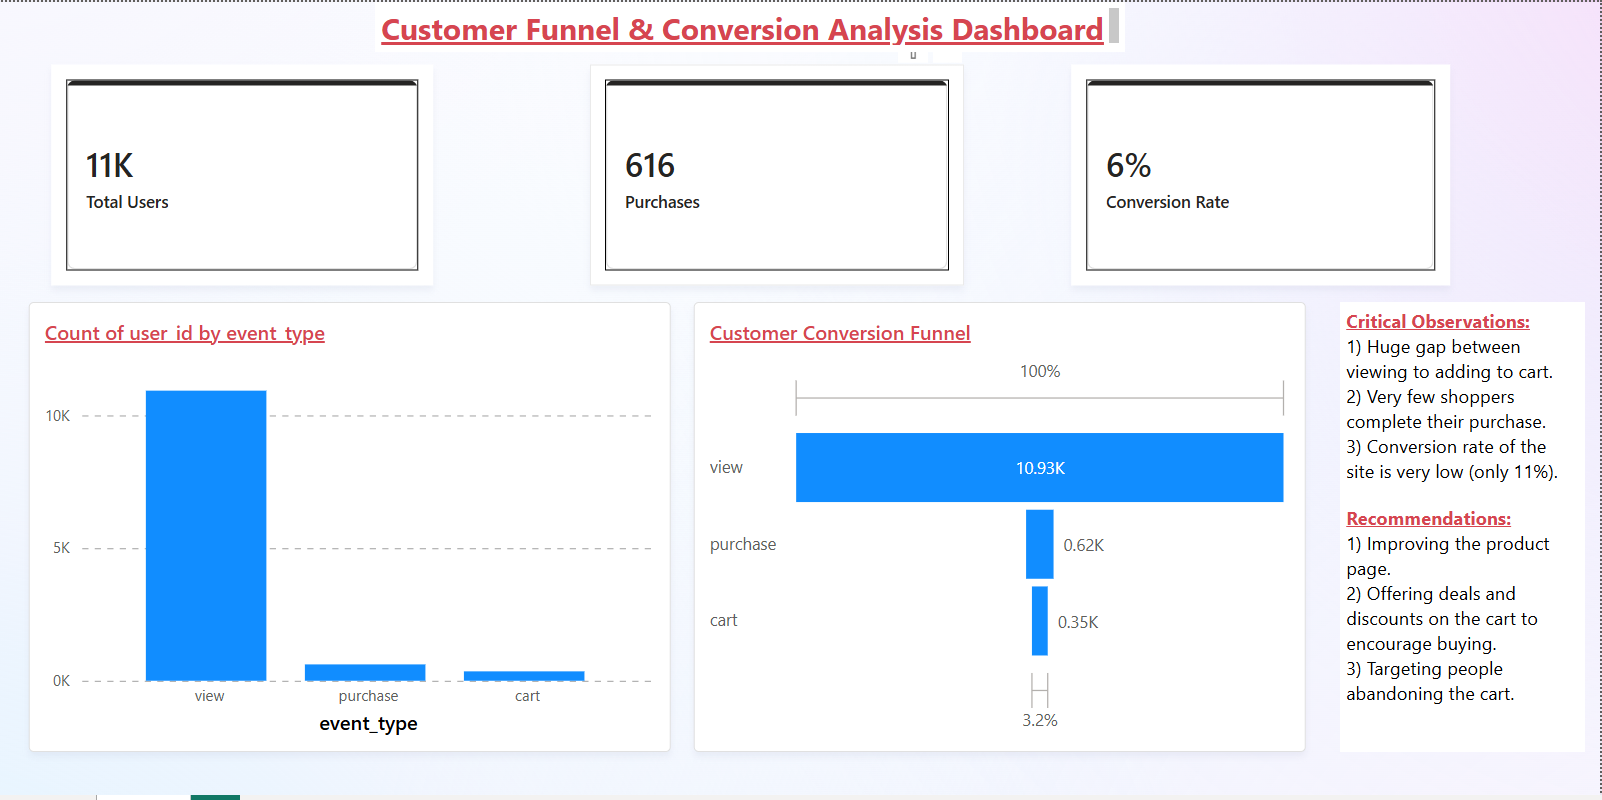

This screenshot's page, from the dashboard's own definition file:
{"tool":"powerbi","page":{"name":"Page 1","canvas":[1280,720],"ordinal":0},"visuals":[{"type":"funnel","title":"Customer Conversion Funnel","fields":{"Category":["2019-Oct.event_type"],"Y":["Count(2019-Oct.user_id)"]},"box":[555,240,490,360],"z":0},{"type":"cardVisual","fields":{"Data":["2019-Oct.Total Users"]},"box":[41,50,306,177],"z":1000},{"type":"cardVisual","fields":{"Data":["2019-Oct.Purchases"]},"box":[472,50,299,177],"z":2000},{"type":"cardVisual","fields":{"Data":["2019-Oct.Conversion Rate"]},"box":[857,50,303,177],"z":3000},{"type":"clusteredColumnChart","fields":{"Category":["2019-Oct.event_type"],"Y":["Count(2019-Oct.user_id)"]},"box":[23,240,514,360],"z":4000},{"type":"textbox","box":[300,0,600,40],"z":5000},{"type":"textbox","box":[1072,240,196,360],"z":6000}]}

Visuals, with their boxes on the page's 1280x720 design canvas (x1, y1, x2, y2). These are canvas units, not pixel positions in the 1602x800 screenshot, which may show the page scaled, cropped or inside an application window:
"Customer Conversion Funnel" funnel: {"left": 555, "top": 240, "right": 1045, "bottom": 600}
cardVisual - 2019-Oct.Total Users: {"left": 41, "top": 50, "right": 347, "bottom": 227}
cardVisual - 2019-Oct.Purchases: {"left": 472, "top": 50, "right": 771, "bottom": 227}
cardVisual - 2019-Oct.Conversion Rate: {"left": 857, "top": 50, "right": 1160, "bottom": 227}
clusteredColumnChart - 2019-Oct.event_type x Count(2019-Oct.user_id): {"left": 23, "top": 240, "right": 537, "bottom": 600}
textbox: {"left": 300, "top": 0, "right": 900, "bottom": 40}
textbox: {"left": 1072, "top": 240, "right": 1268, "bottom": 600}
